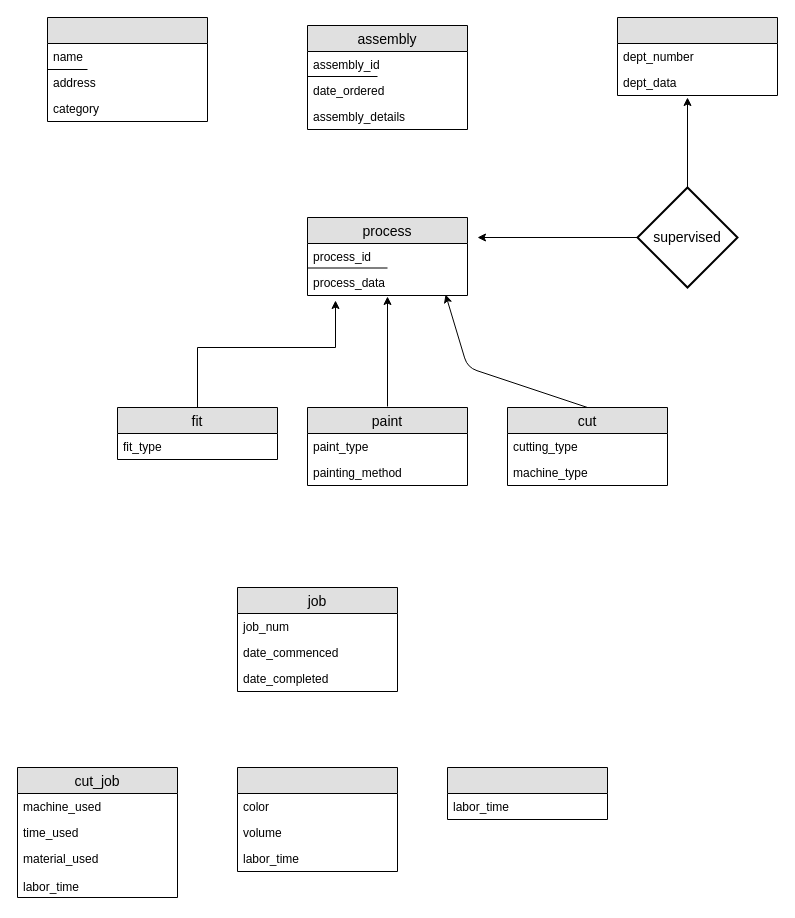
Image size: 795x918. Some labels were removed from this diagram. Here are the shapes that lost their labels. From the top down, the box of each, then its label:
(46, 16, 208, 122): customer
(616, 16, 778, 96): department
(446, 766, 608, 820): fit_job
(236, 766, 398, 872): paint_job
